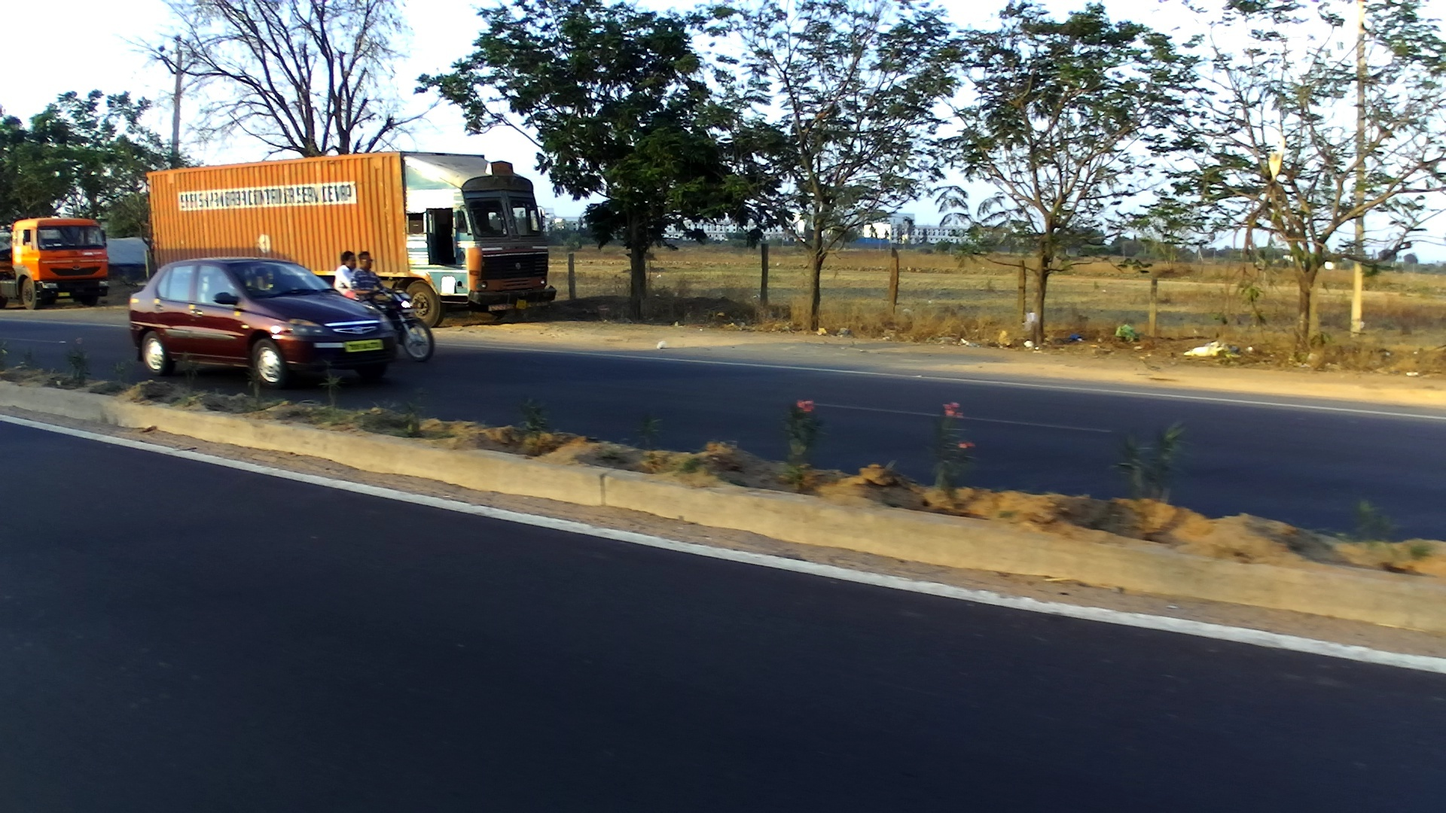car: (127, 257, 399, 386)
motorcycle: (364, 283, 436, 363)
rider: (352, 248, 397, 321), (331, 253, 359, 300)
truck: (145, 151, 556, 327), (1, 215, 108, 309)
